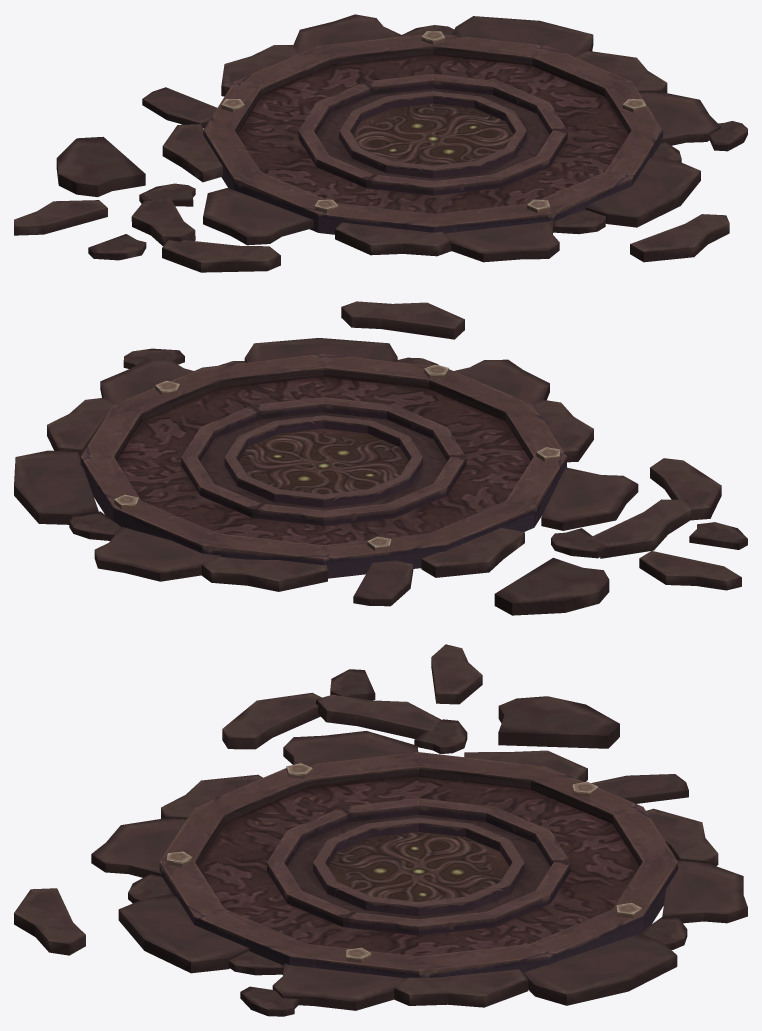
Rendered from sysd_prop02.FBX.
The picture shows the model from 3 angles, top to bottom: view 1: azimuth 30°, elevation 25°; view 2: azimuth 150°, elevation 25°; view 3: azimuth 270°, elevation 25°; orthographic projection. The views are drawn at different scales.
Parts seen in each view (by area): view 1: sysd_prop02; view 2: sysd_prop02; view 3: sysd_prop02.
Boxes of the visible parts, left/top/right/bottom form: sysd_prop02: left=14, top=14, right=747, bottom=272; sysd_prop02: left=14, top=301, right=747, bottom=615; sysd_prop02: left=14, top=644, right=747, bottom=1016.
Bounding box in the file's own units: 1268 × 45.95 × 1089.
1 material, 1 textured.
